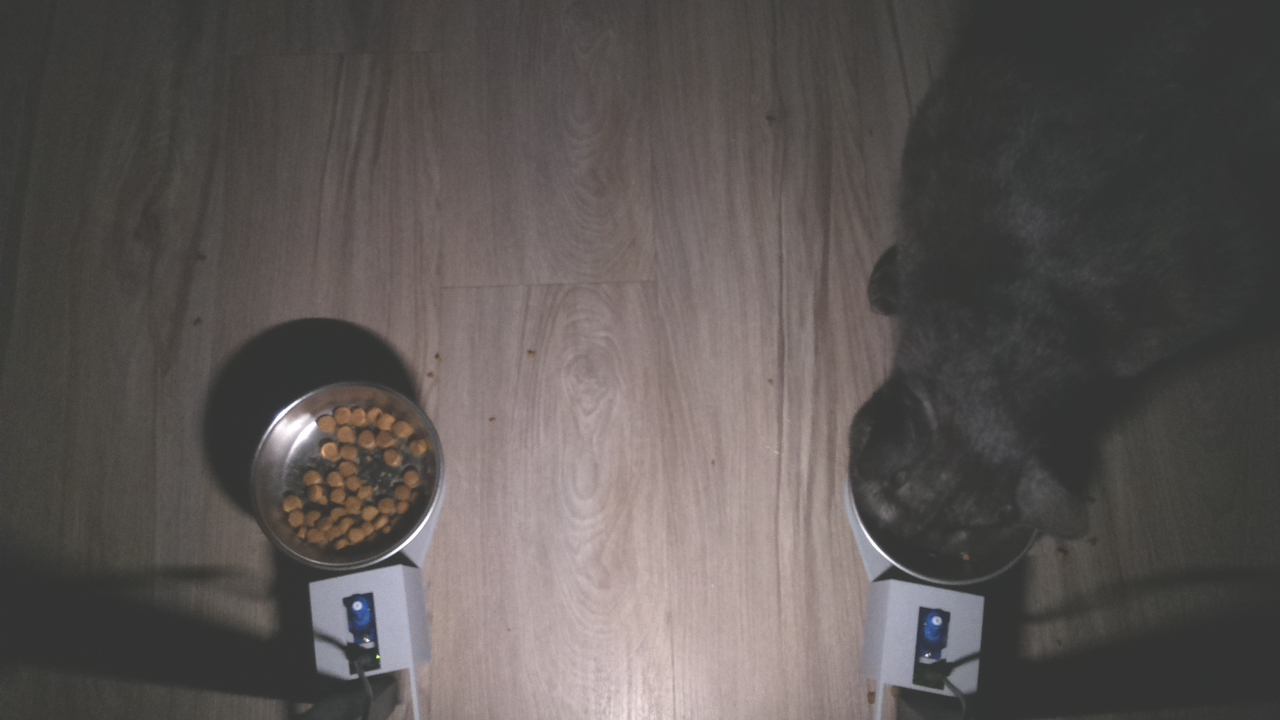open_bowl: (244, 372, 461, 589)
saki_eating: (845, 358, 1106, 606)
